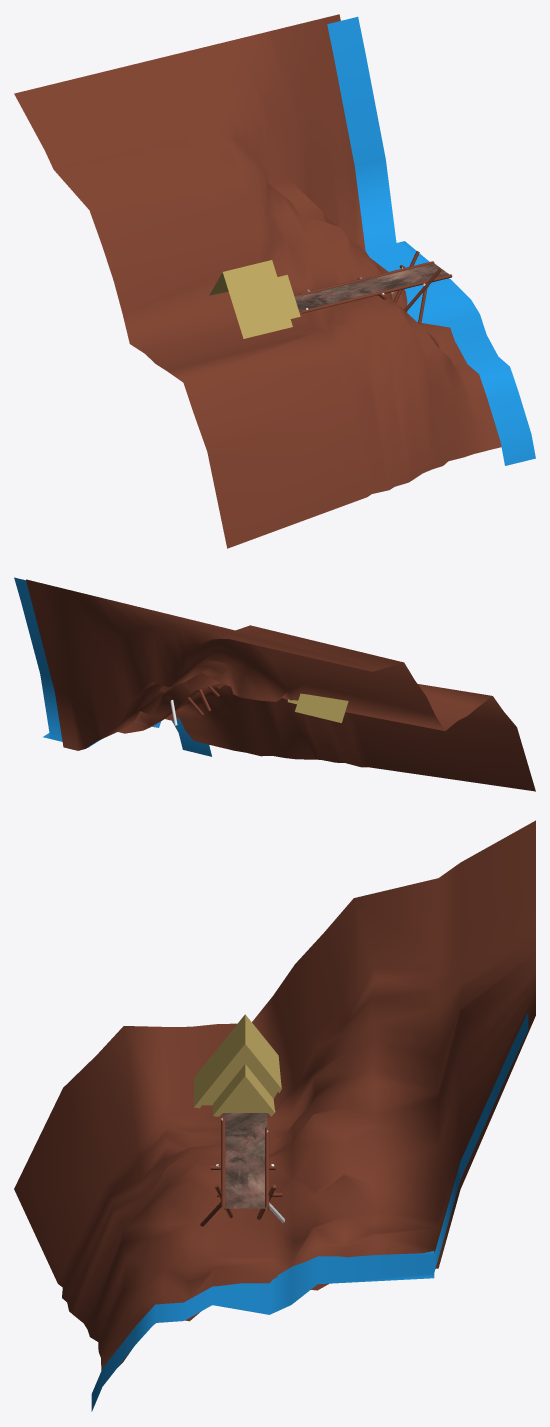
File: stone_age.glb
The picture shows the model from 3 angles, top to bottom: view 1: azimuth 30°, elevation 25°; view 2: azimuth 150°, elevation 25°; view 3: azimuth 270°, elevation 25°; orthographic projection. The views are drawn at different scales.
Parts seen in each view (by area): view 1: floor, waterfall, Cube, Plane; view 2: floor, waterfall, Cube; view 3: floor, waterfall, Cube, Plane.
Boxes of the visible parts, left/top/right/bottom form: floor: left=14, top=14, right=501, bottom=548; waterfall: left=327, top=16, right=535, bottom=465; Cube: left=209, top=260, right=300, bottom=338; Plane: left=294, top=263, right=449, bottom=312; floor: left=26, top=579, right=535, bottom=791; waterfall: left=14, top=577, right=211, bottom=756; Cube: left=287, top=693, right=348, bottom=722; floor: left=14, top=820, right=535, bottom=1370; waterfall: left=91, top=1012, right=528, bottom=1411; Cube: left=194, top=1014, right=281, bottom=1116; Plane: left=223, top=1113, right=267, bottom=1208.
Bounding box in the file's own units: 23.1 × 19.48 × 23.77.
4 materials, 1 textured.
